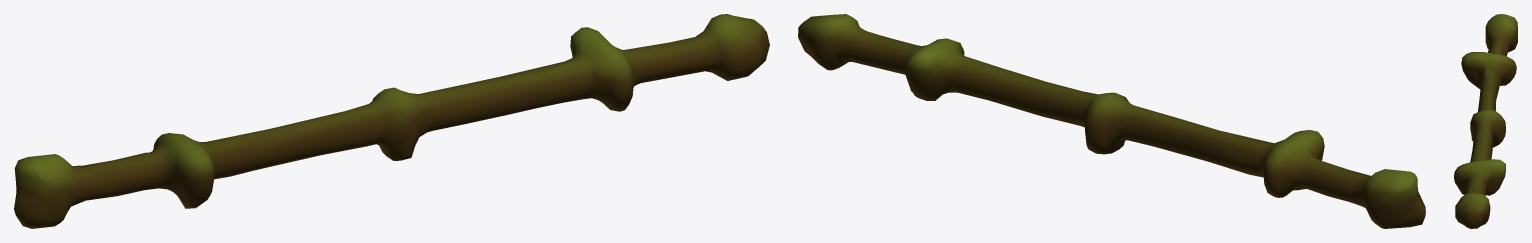
Rendered from boundary-pole.glb.
3 renders of one model, left to right at view 1: azimuth 30°, elevation 25°; view 2: azimuth 150°, elevation 25°; view 3: azimuth 270°, elevation 25°, orthographic. The views are drawn at different scales.
Parts seen in each view (by area): view 1: boundary-pole; view 2: boundary-pole; view 3: boundary-pole.
Boxes of the visible parts, x1=… form: boundary-pole: x1=14, y1=14, x2=769, y2=228; boundary-pole: x1=798, y1=14, x2=1425, y2=228; boundary-pole: x1=1454, y1=14, x2=1517, y2=228.
Bounding box in the file's own units: 0.0136 × 0.00128 × 0.00189.
